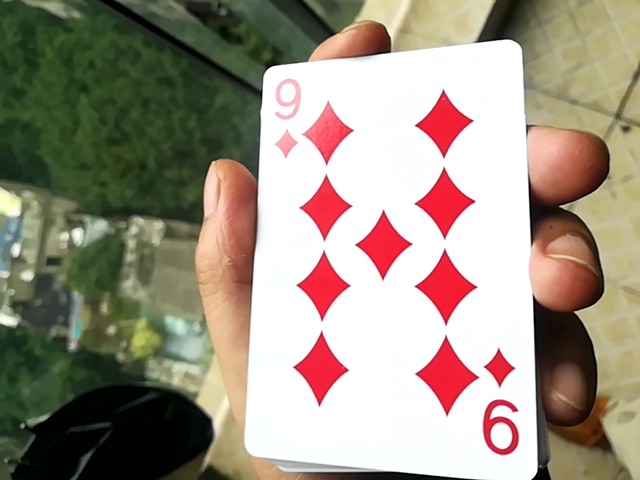fk 9: (240, 30, 535, 480)
